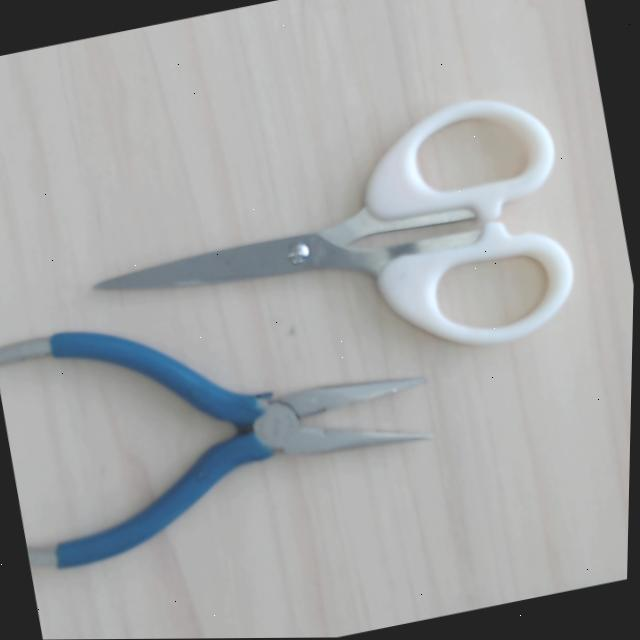Gunting: (75, 91, 581, 405)
Tang-Jepit-Biru: (0, 265, 445, 575)
